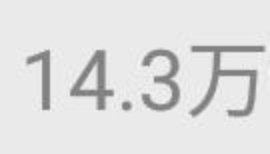TextView: (1, 1, 269, 153)
